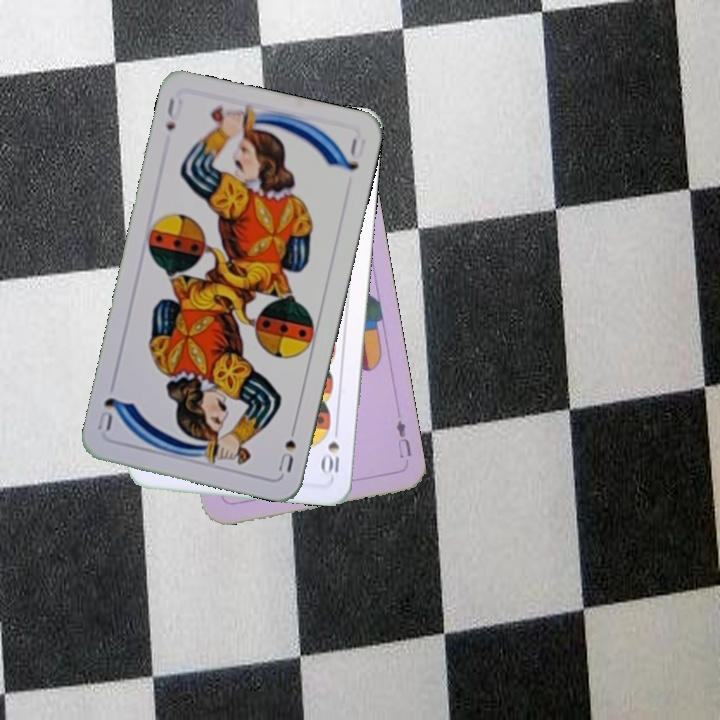EU: (392, 416, 414, 461)
S10: (319, 421, 342, 480)
SU: (274, 418, 299, 475), (162, 93, 186, 134)
